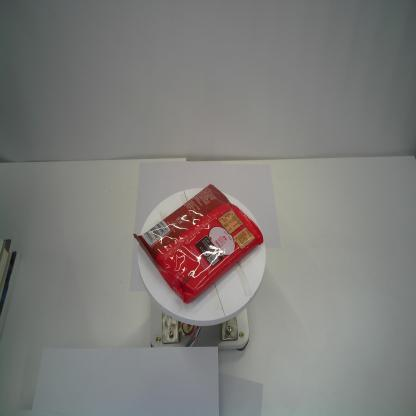Dessert: (133, 184, 264, 304)
